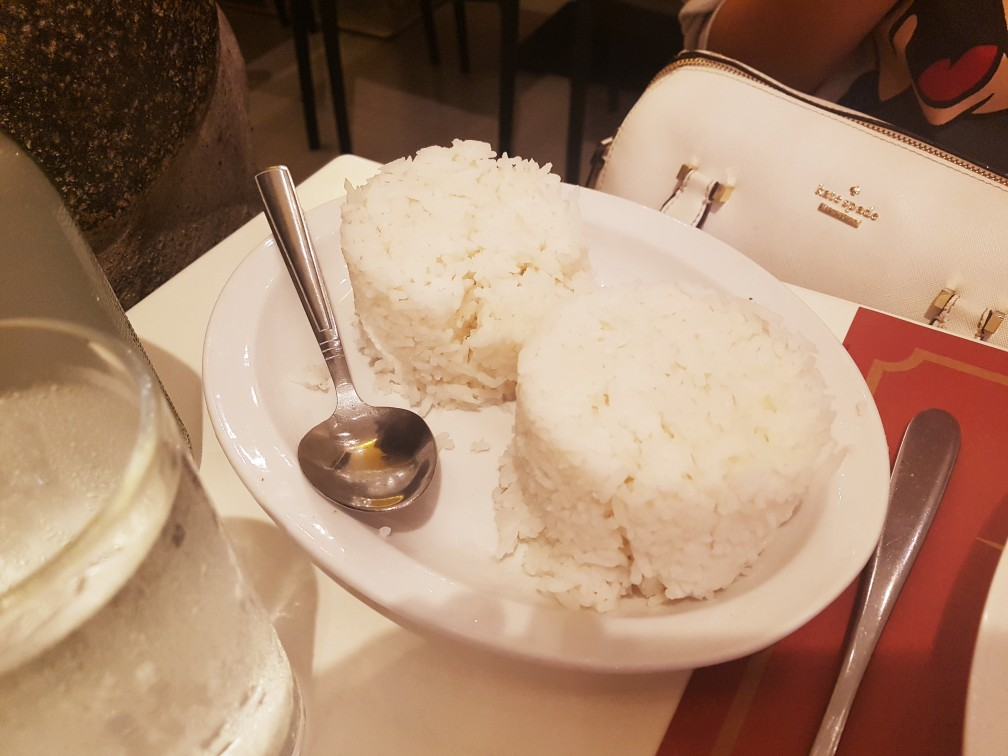plain rice: (562, 308, 788, 524), (373, 188, 532, 316)
